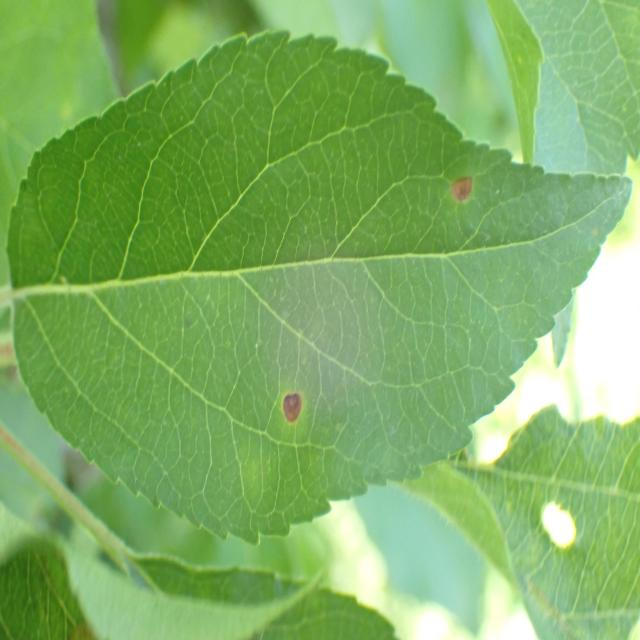Black Rot: (266, 381, 314, 434), (436, 163, 481, 213)
